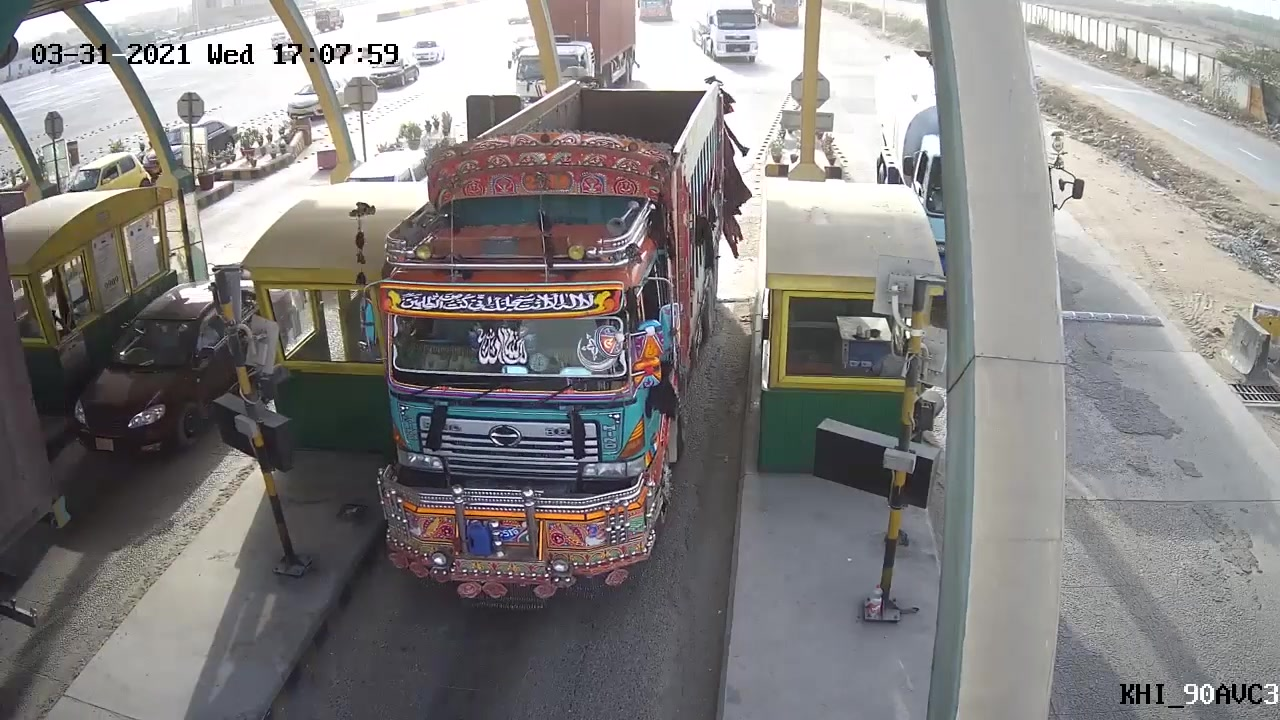F5: (372, 78, 714, 627)
